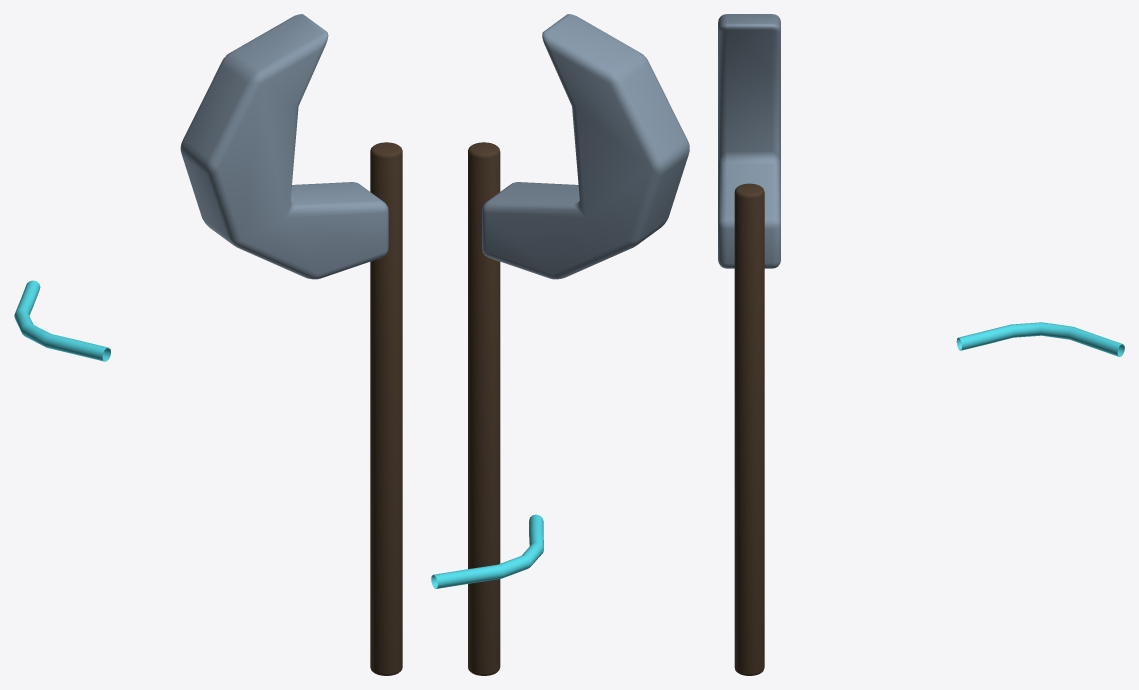
Rendered from axe_v4.glb.
3 views of the same model, side by side, from view 1: azimuth 30°, elevation 25°; view 2: azimuth 150°, elevation 25°; view 3: azimuth 270°, elevation 25° (orthographic). The views are drawn at different scales.
Visible parts, largest first — view 1: CRESCENT_HEAD_PRIMARY, AXE_SHAFT_SECONDARY, CRESCENT_EDGE_ACCENT; view 2: CRESCENT_HEAD_PRIMARY, AXE_SHAFT_SECONDARY, CRESCENT_EDGE_ACCENT; view 3: AXE_SHAFT_SECONDARY, CRESCENT_HEAD_PRIMARY, CRESCENT_EDGE_ACCENT.
Part boxes in pixels (x1=…): CRESCENT_HEAD_PRIMARY: x1=180, y1=14, x2=388, y2=279; AXE_SHAFT_SECONDARY: x1=370, y1=142, x2=402, y2=675; CRESCENT_EDGE_ACCENT: x1=14, y1=280, x2=110, y2=361; CRESCENT_HEAD_PRIMARY: x1=482, y1=14, x2=689, y2=279; AXE_SHAFT_SECONDARY: x1=468, y1=142, x2=500, y2=675; CRESCENT_EDGE_ACCENT: x1=431, y1=514, x2=543, y2=588; AXE_SHAFT_SECONDARY: x1=734, y1=183, x2=764, y2=675; CRESCENT_HEAD_PRIMARY: x1=718, y1=14, x2=780, y2=268; CRESCENT_EDGE_ACCENT: x1=956, y1=322, x2=1124, y2=356.
Bounding box in the file's own units: 1.56 × 4.52 × 2.71.
